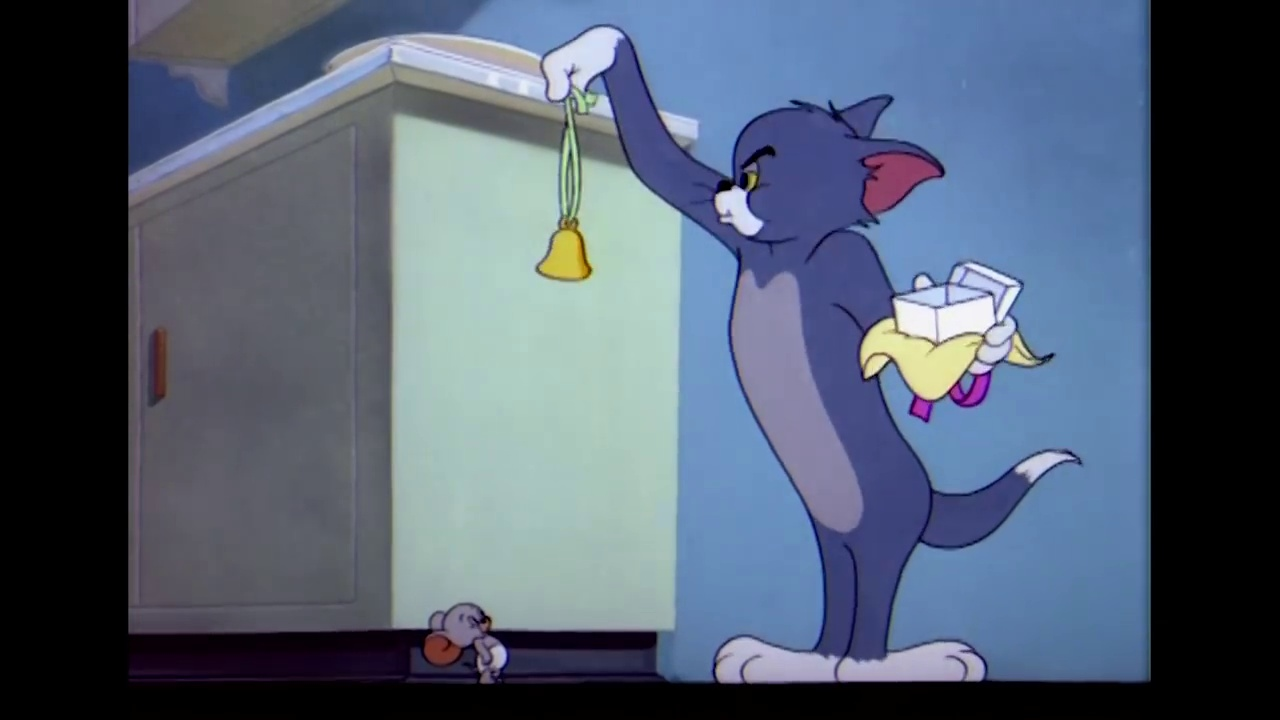tom: (711, 93, 949, 243)
